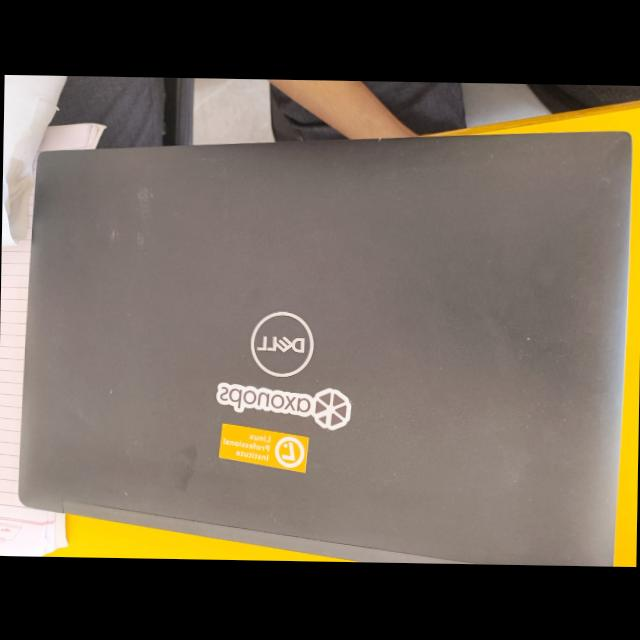laptop: (13, 106, 635, 548)
